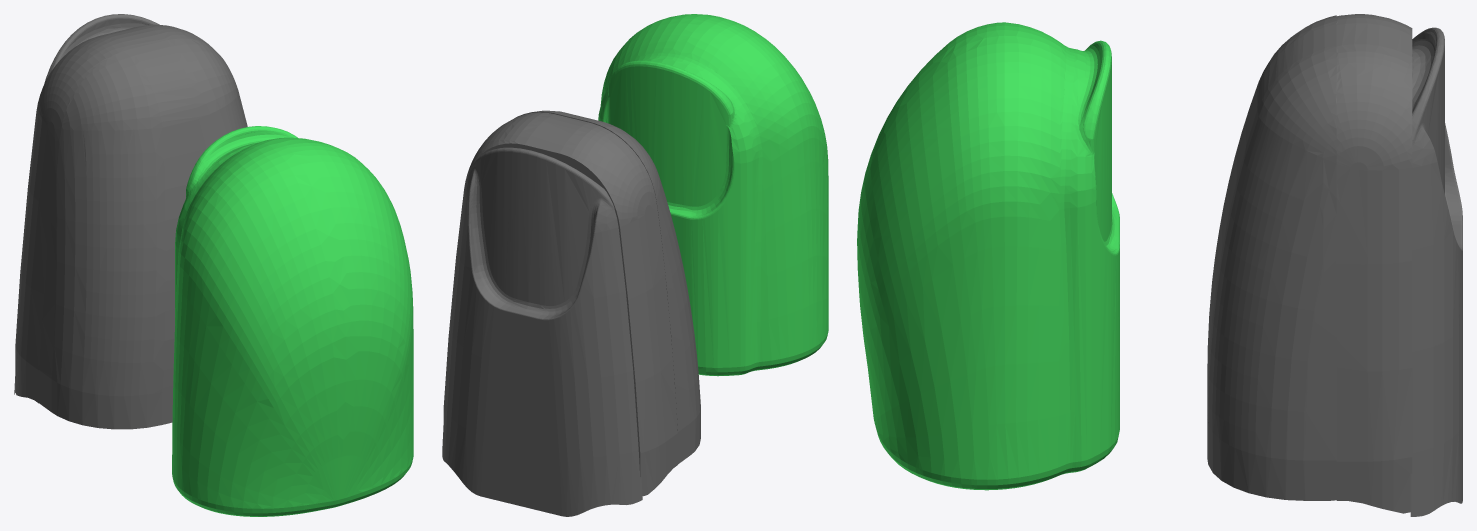
The model's file is f_distal_mst.dae.
3 views of the same model, side by side, from view 1: azimuth 30°, elevation 25°; view 2: azimuth 150°, elevation 25°; view 3: azimuth 270°, elevation 25° (orthographic). The views are drawn at different scales.
Visible parts, largest first — view 1: Finger Distal MST, f_distal_pst; view 2: f_distal_pst, Finger Distal MST; view 3: f_distal_pst, Finger Distal MST.
Boxes of the visible parts, x1=… form: Finger Distal MST: x1=172, y1=126, x2=413, y2=516; f_distal_pst: x1=14, y1=14, x2=247, y2=429; f_distal_pst: x1=442, y1=110, x2=700, y2=516; Finger Distal MST: x1=598, y1=14, x2=828, y2=376; f_distal_pst: x1=1207, y1=14, x2=1462, y2=516; Finger Distal MST: x1=857, y1=22, x2=1119, y2=490.
Size of the model in its own units: 17.25 by 34 by 27.33.
